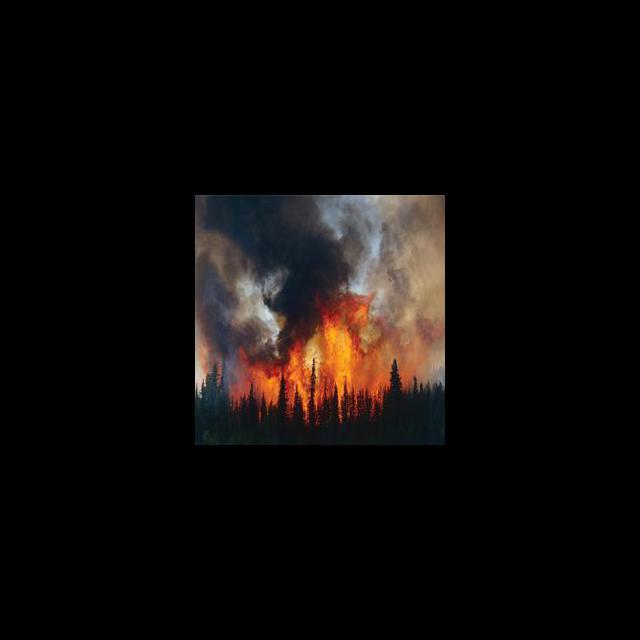Fire: (233, 287, 422, 423)
Smoke: (196, 196, 444, 286)
